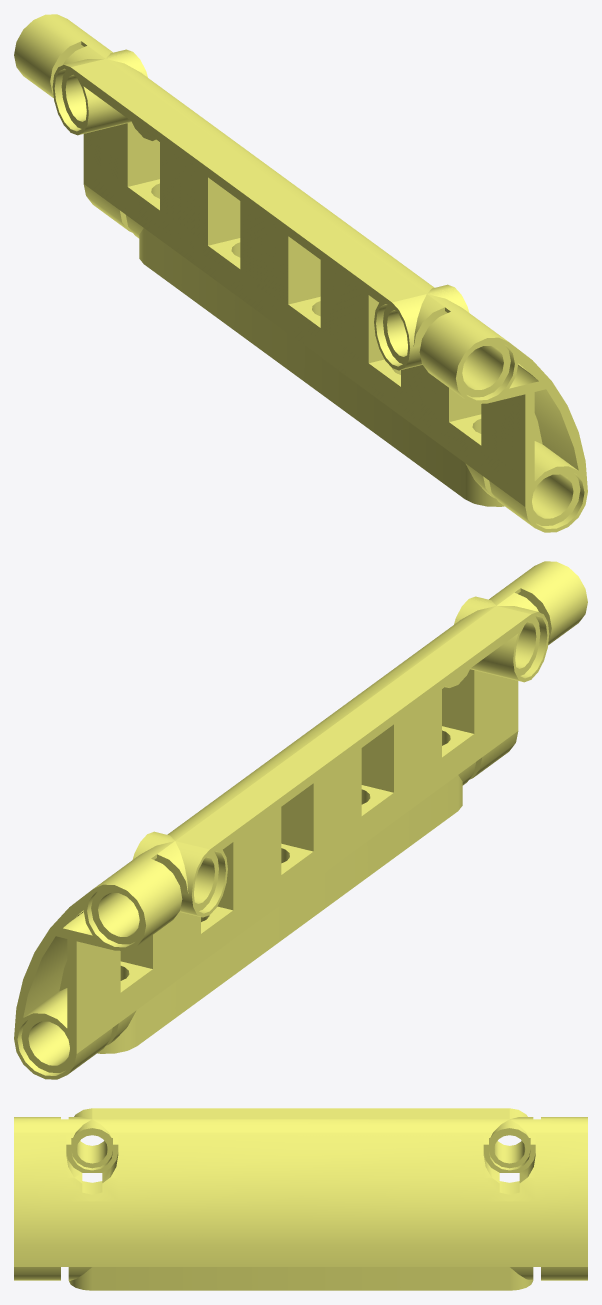
3 renders of one model, top to bottom at view 1: azimuth 30°, elevation 25°; view 2: azimuth 150°, elevation 25°; view 3: azimuth 270°, elevation 25°, orthographic. The views are drawn at different scales.
Visible parts, largest first — view 1: 62531.dat; view 2: 62531.dat; view 3: 62531.dat.
Boxes of the visible parts, x1,y1,x2,y2 form: 62531.dat: (14, 14, 587, 532); 62531.dat: (14, 561, 587, 1079); 62531.dat: (14, 1108, 587, 1290).
Bounding box in the file's own units: 0.0156 × 0.0236 × 0.088.
